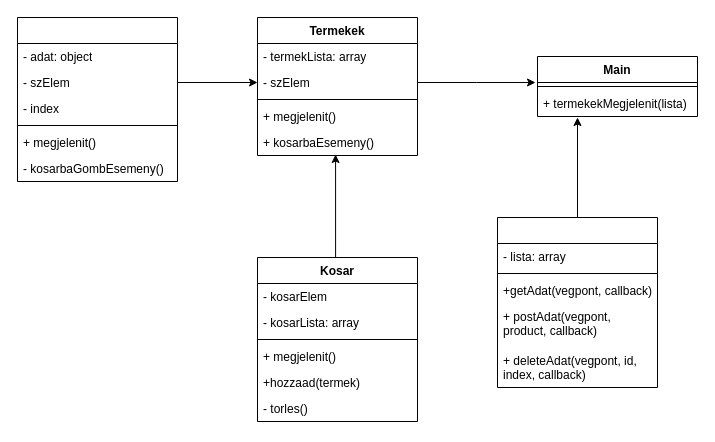
The diagram is 715 pixels wide and 442 high, and some of its shapes have lost their labels. Here are the shapes that lost their labels. From the top down, the box of each, then its label:
(16, 16, 178, 182): Termek
(496, 216, 658, 388): Modell
